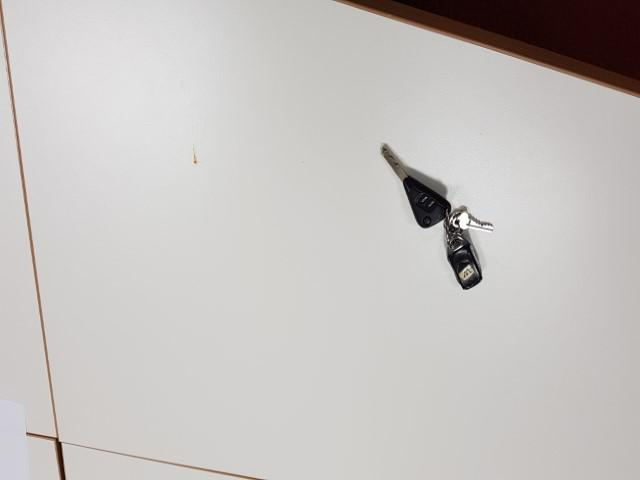key: (381, 142, 450, 228)
